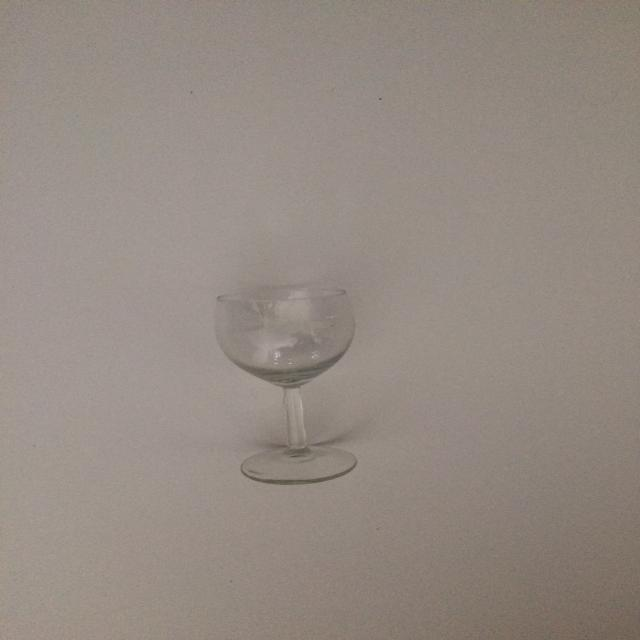Glass: (205, 276, 382, 489)
